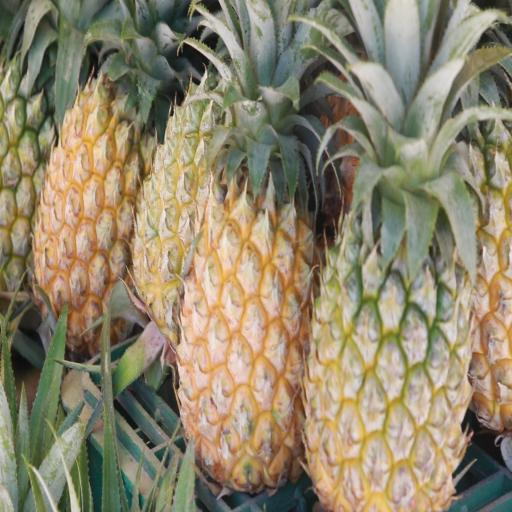------------------------------: (302, 57, 476, 512)
Pineapple - v8 v1: (172, 114, 323, 492), (126, 0, 253, 345), (25, 27, 156, 361)
